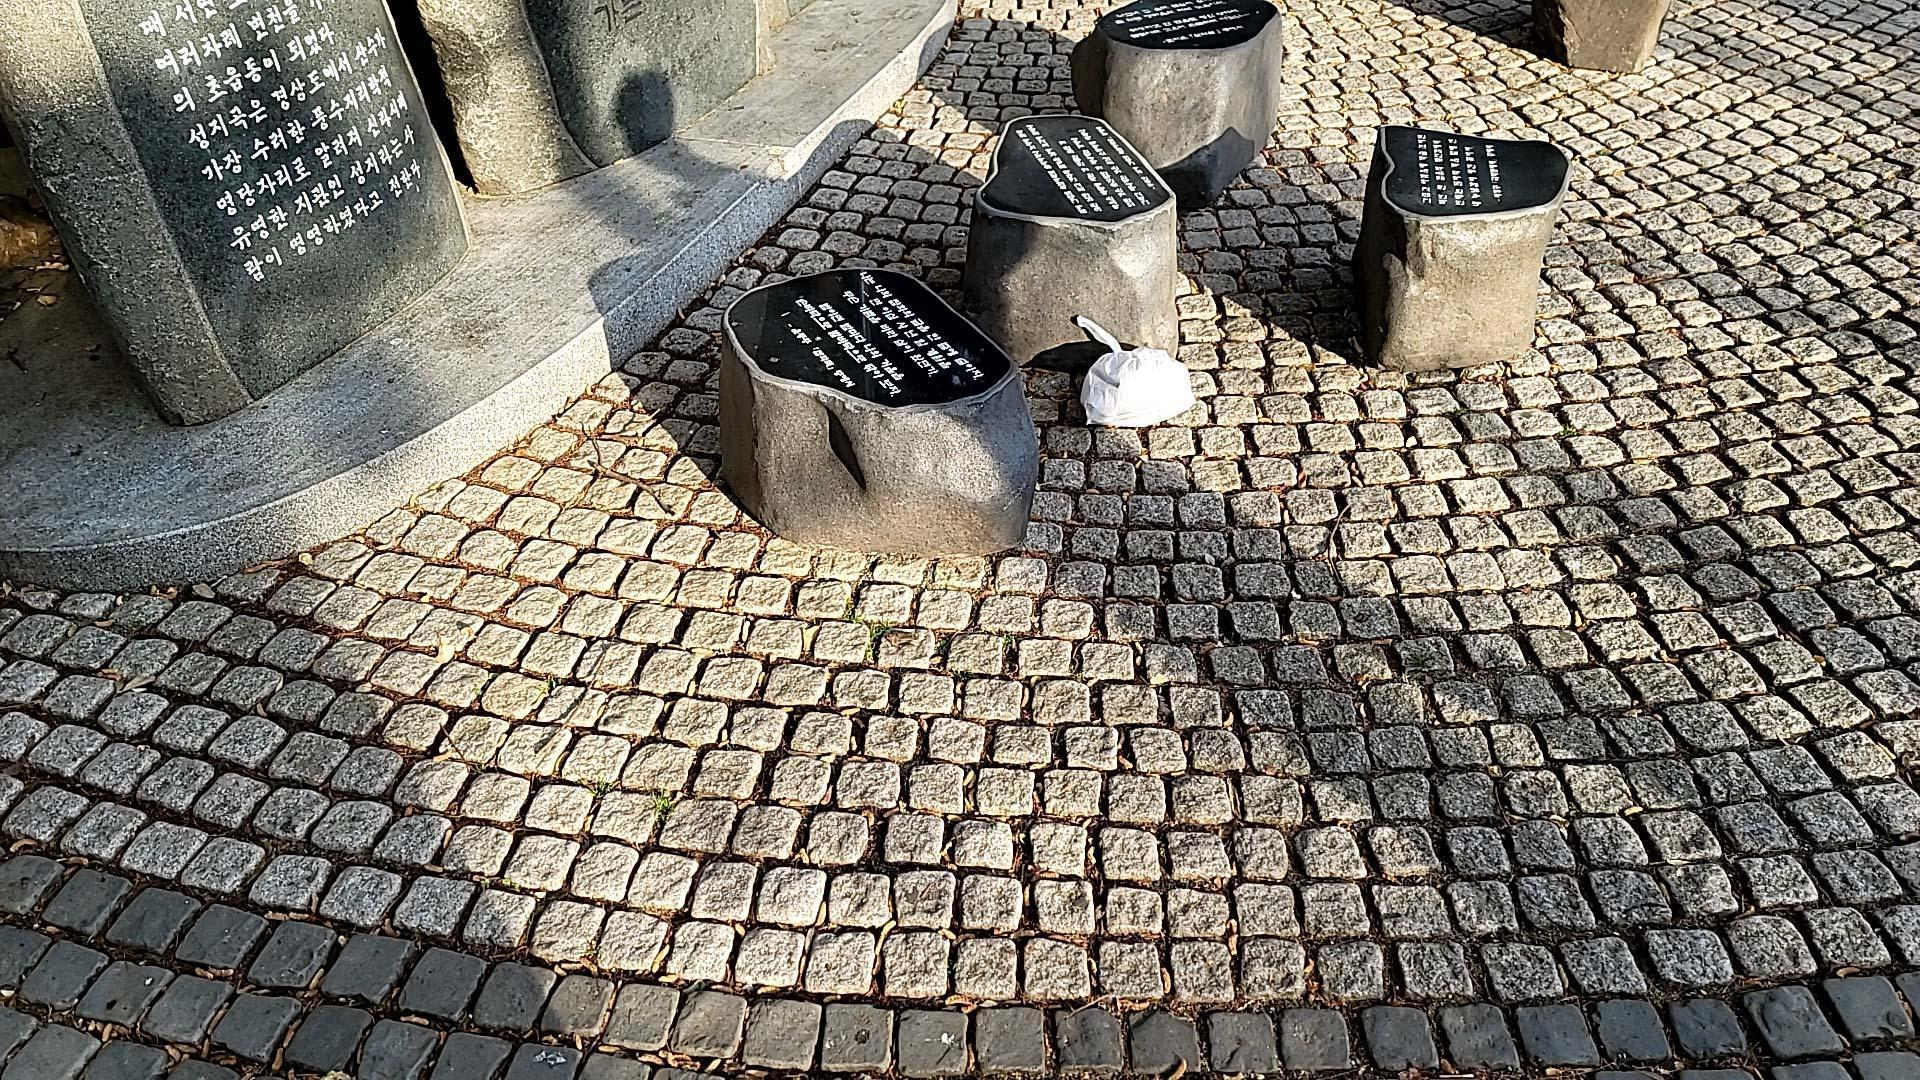white_bag: (1060, 309, 1209, 442)
